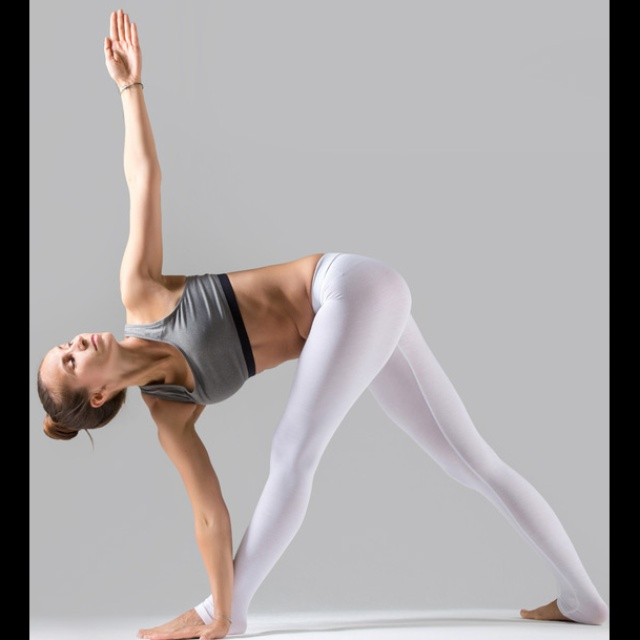Triangle_Pose: (31, 8, 607, 636)
